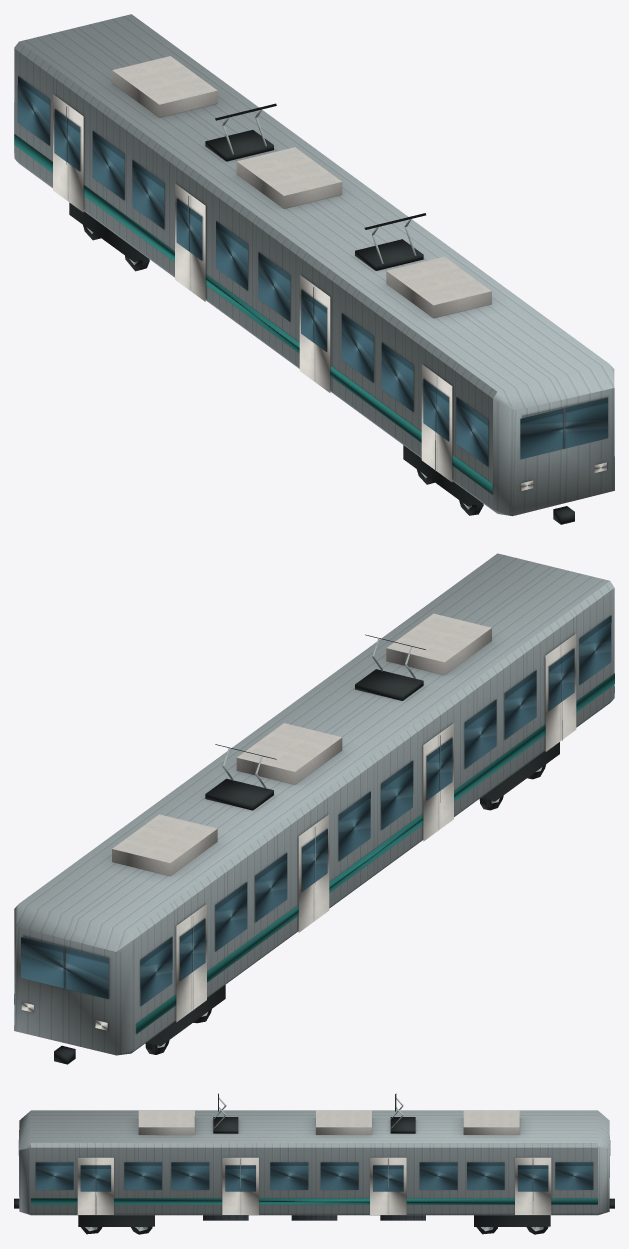
Rendered from commuter_001.lod1.obj.
The picture shows the model from 3 angles, top to bottom: view 1: azimuth 30°, elevation 25°; view 2: azimuth 150°, elevation 25°; view 3: azimuth 270°, elevation 25°; orthographic projection. The views are drawn at different scales.
Parts seen in each view (by area): view 1: commuter_001; view 2: commuter_001; view 3: commuter_001.
Part boxes in pixels (x1,y1,x2,y2): commuter_001: [14, 14, 614, 524]; commuter_001: [14, 553, 614, 1064]; commuter_001: [14, 1093, 614, 1234].
Bounding box in the file's own units: 2.94 × 4.58 × 20.35.
Materials: 1 (1 with a texture image).
